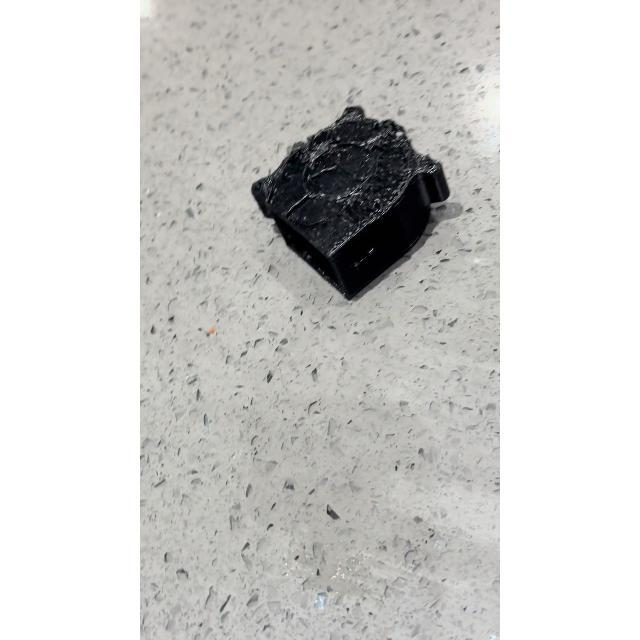Pieza3: (240, 100, 458, 320)
